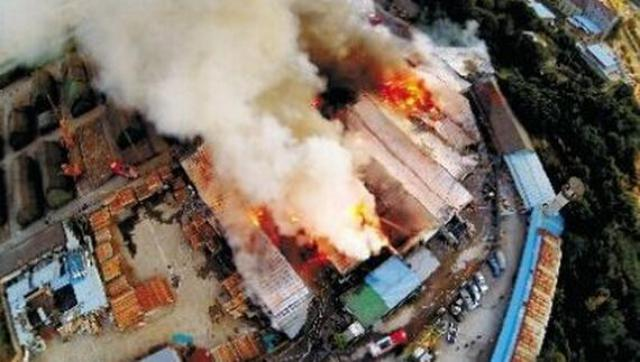fire: (382, 68, 428, 109), (250, 205, 270, 228)
